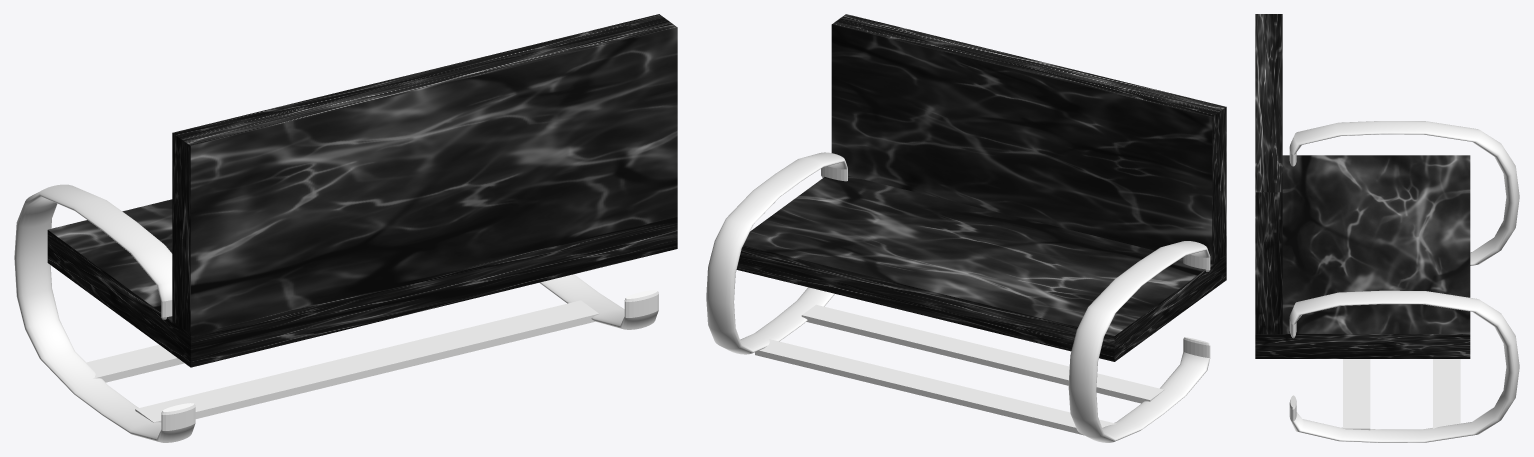
Rendered from Chair.fbx.
3 renders of one model, left to right at view 1: azimuth 30°, elevation 25°; view 2: azimuth 150°, elevation 25°; view 3: azimuth 270°, elevation 25°, orthographic. The views are drawn at different scales.
Visible parts, largest first — view 1: Chair; view 2: Chair; view 3: Chair.
Boxes of the visible parts, left/top/right/bottom form: Chair: left=14, top=14, right=677, bottom=442; Chair: left=706, top=14, right=1226, bottom=442; Chair: left=1255, top=14, right=1519, bottom=442.
Bounding box in the file's own units: 15.7 × 10.03 × 9.62.
Materials: 2 (1 with a texture image).
